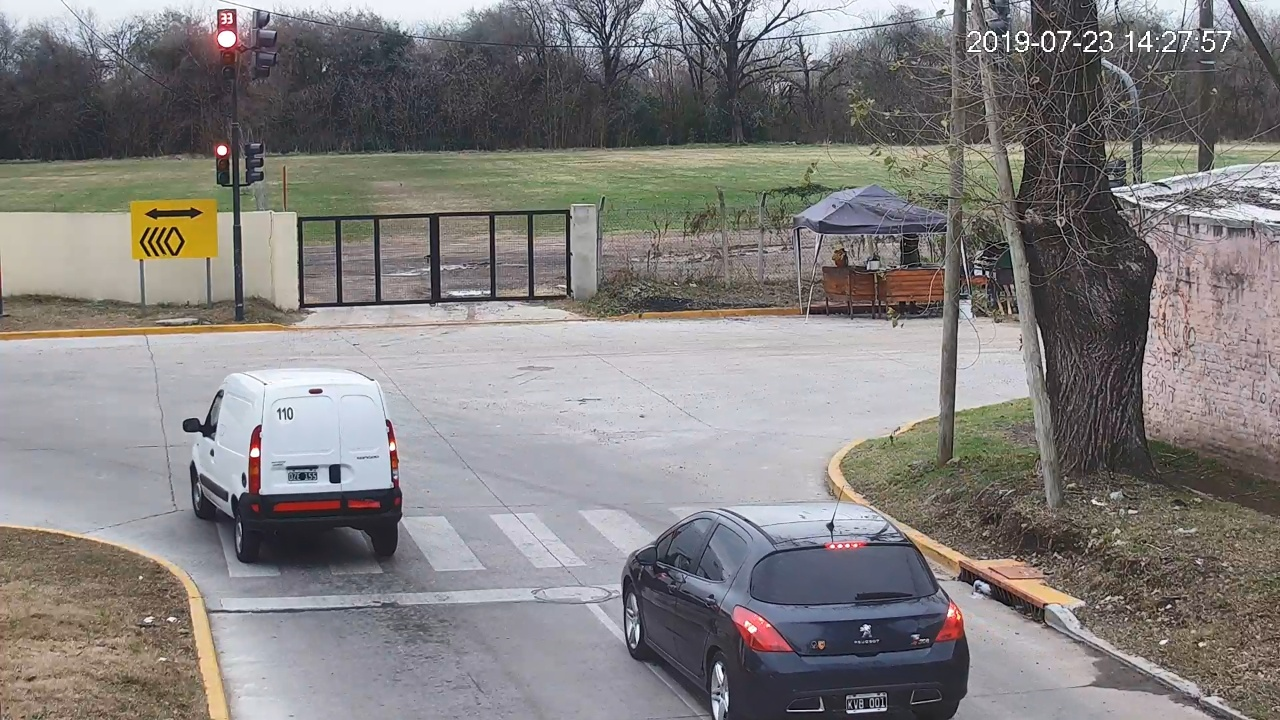car: (621, 503, 971, 720), (183, 367, 402, 563)
traffic light: (218, 30, 236, 80), (216, 145, 230, 184)
